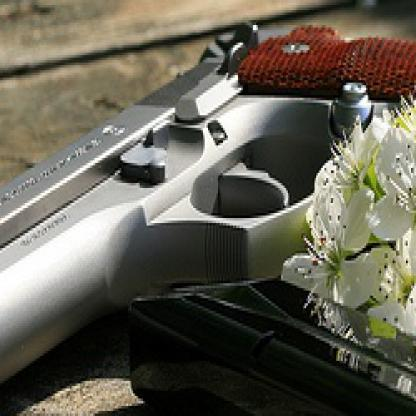gun: (0, 20, 415, 414)
